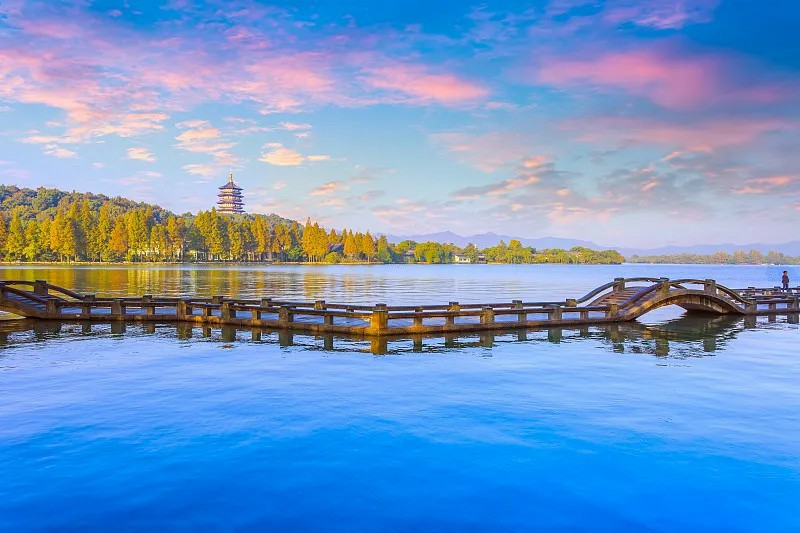Leifeng: (215, 169, 245, 216)
